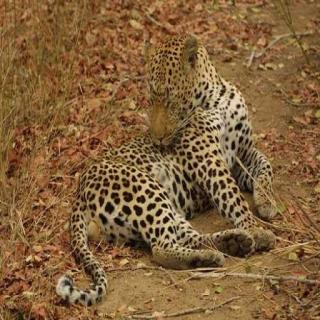Leopard: (66, 14, 278, 254)
